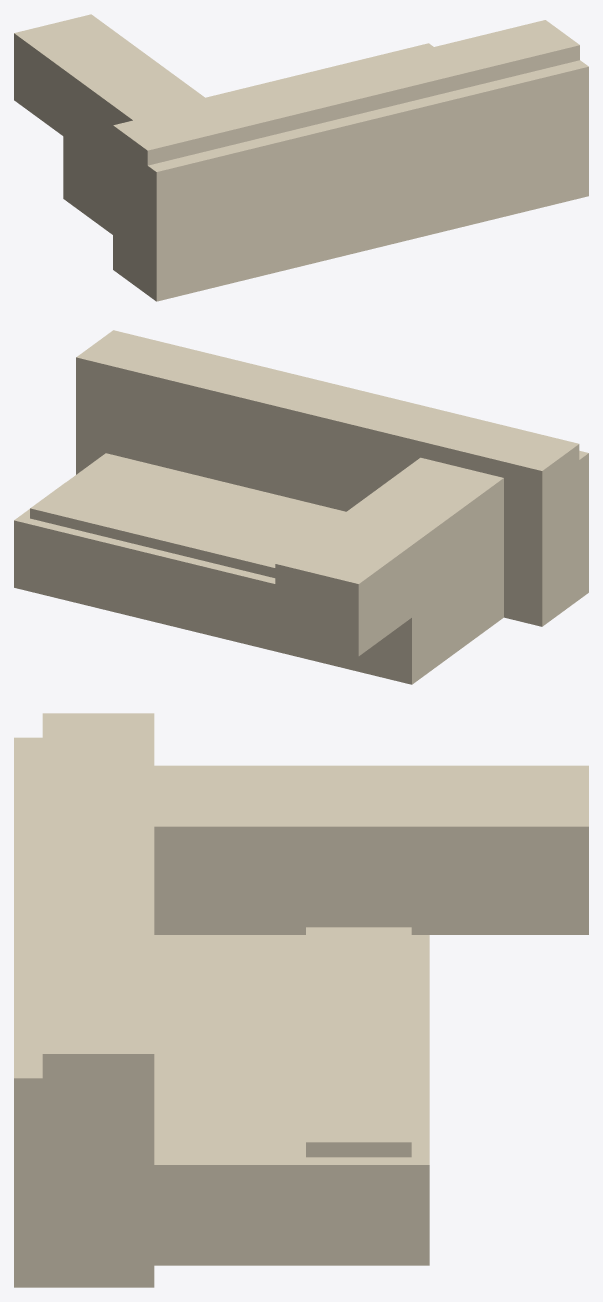
The model's file is SM_Skempton_Building.fbx.
3 views of the same model, one above another, from view 1: azimuth 30°, elevation 25°; view 2: azimuth 150°, elevation 25°; view 3: azimuth 270°, elevation 25° (orthographic). The views are drawn at different scales.
Visible parts, largest first — view 1: SM_Skempton_Building; view 2: SM_Skempton_Building; view 3: SM_Skempton_Building.
Part boxes in pixels (x1,y1,x2,y2): SM_Skempton_Building: (14, 14, 588, 301); SM_Skempton_Building: (14, 330, 588, 684); SM_Skempton_Building: (14, 713, 588, 1287).
Bounding box in the file's own units: 82.21 × 26.26 × 58.64.
